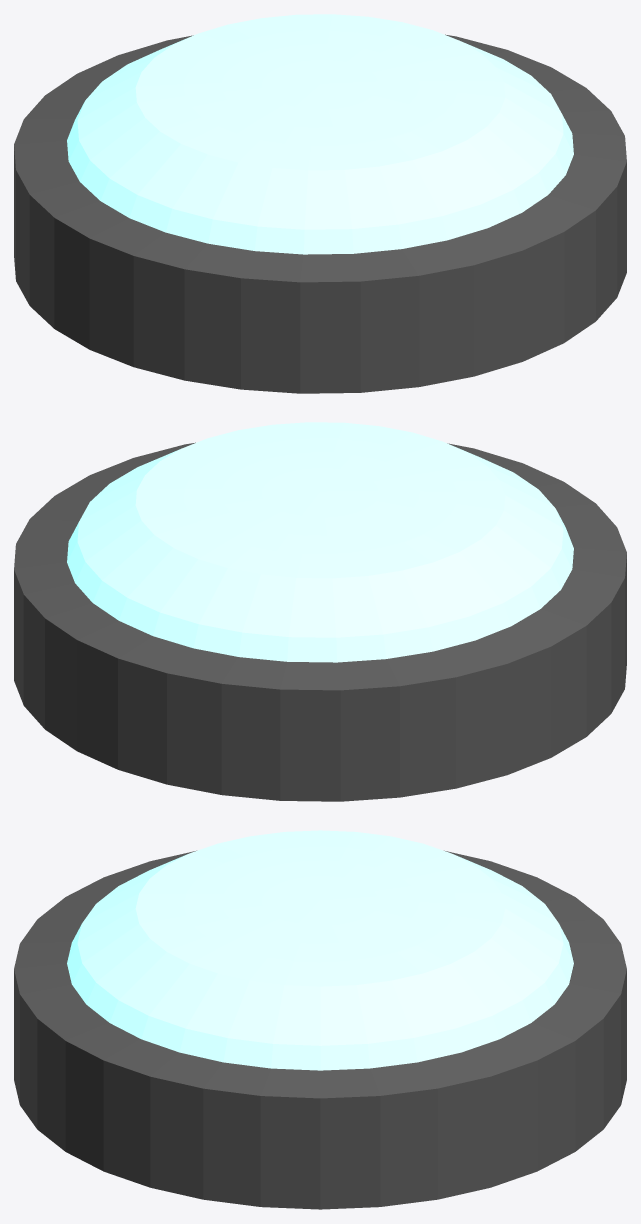
Rendered from ButtonTeal.fbx.
3 views of the same model, one above another, from view 1: azimuth 30°, elevation 25°; view 2: azimuth 150°, elevation 25°; view 3: azimuth 270°, elevation 25° (orthographic).
Parts seen in each view (by area): view 1: ButtonBase, ButtonHead; view 2: ButtonBase, ButtonHead; view 3: ButtonBase, ButtonHead.
Boxes of the visible parts, x1=… form: ButtonBase: x1=14, y1=34, x2=626, y2=393; ButtonHead: x1=67, y1=14, x2=573, y2=254; ButtonBase: x1=14, y1=442, x2=626, y2=801; ButtonHead: x1=67, y1=422, x2=573, y2=662; ButtonBase: x1=14, y1=850, x2=626, y2=1209; ButtonHead: x1=67, y1=830, x2=573, y2=1070.
Bounding box in the file's own units: 200 × 64.78 × 200.
